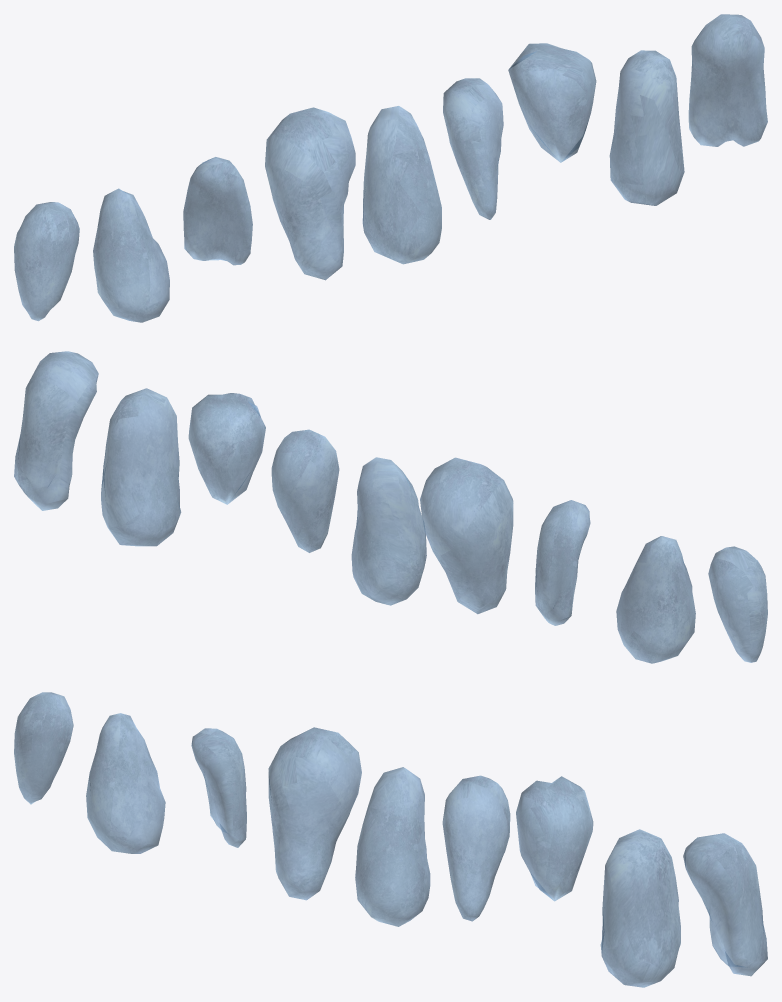
Rendered from shards.glb.
3 views of the same model, one above another, from view 1: azimuth 30°, elevation 25°; view 2: azimuth 150°, elevation 25°; view 3: azimuth 330°, elevation 25° (orthographic).
Visible parts, largest first — view 1: rock.018, rock.013, rock.019, rock.020, rock.021, rock.012, rock.014, rock.015, rock.016; view 2: rock.018, rock.019, rock.020, rock.013, rock.021, rock.012, rock.015, rock.016, rock.014; view 3: rock.018, rock.019, rock.013, rock.021, rock.020, rock.015, rock.012, rock.016, rock.014.
Part boxes in pixels (bbox=[...]): rock.018: bbox=[265, 107, 355, 280]; rock.013: bbox=[362, 106, 441, 264]; rock.019: bbox=[609, 50, 684, 205]; rock.020: bbox=[688, 14, 767, 146]; rock.021: bbox=[93, 188, 169, 322]; rock.012: bbox=[508, 43, 596, 162]; rock.014: bbox=[183, 157, 252, 265]; rock.015: bbox=[443, 78, 503, 219]; rock.016: bbox=[14, 202, 79, 321]; rock.018: bbox=[420, 457, 513, 614]; rock.019: bbox=[101, 388, 181, 546]; rock.020: bbox=[14, 351, 98, 510]; rock.013: bbox=[351, 457, 426, 605]; rock.021: bbox=[616, 536, 695, 663]; rock.012: bbox=[188, 393, 265, 504]; rock.015: bbox=[271, 429, 339, 552]; rock.016: bbox=[708, 546, 767, 662]; rock.014: bbox=[535, 500, 590, 625]; rock.018: bbox=[268, 727, 361, 900]; rock.019: bbox=[600, 829, 680, 987]; rock.013: bbox=[355, 767, 430, 926]; rock.021: bbox=[86, 713, 165, 853]; rock.020: bbox=[683, 833, 767, 976]; rock.015: bbox=[442, 775, 510, 921]; rock.012: bbox=[516, 776, 593, 901]; rock.016: bbox=[14, 692, 73, 804]; rock.014: bbox=[191, 728, 246, 847].
Size of the model in its own units: 3.95 by 0.8767 by 0.4792.
Materials: 1 (1 with a texture image).
